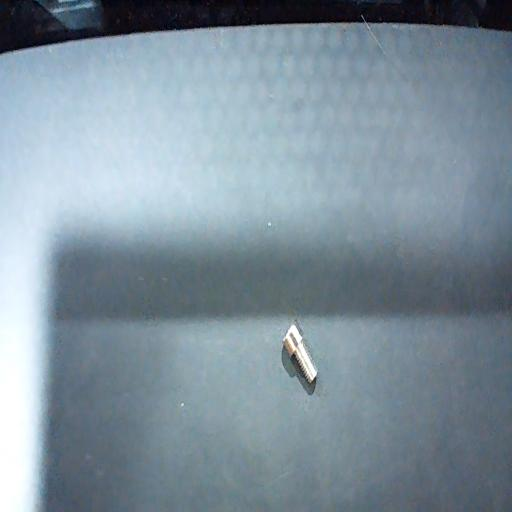screw: (283, 323, 317, 384)
